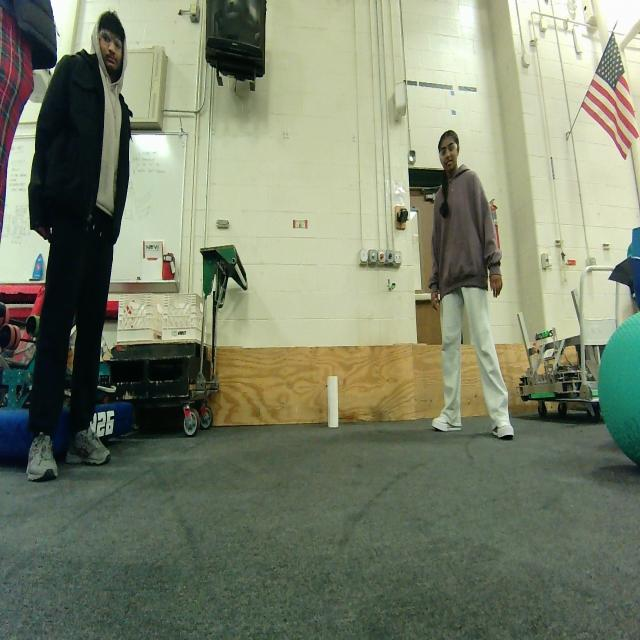algae: (598, 312, 640, 468)
coral: (327, 376, 338, 427)
